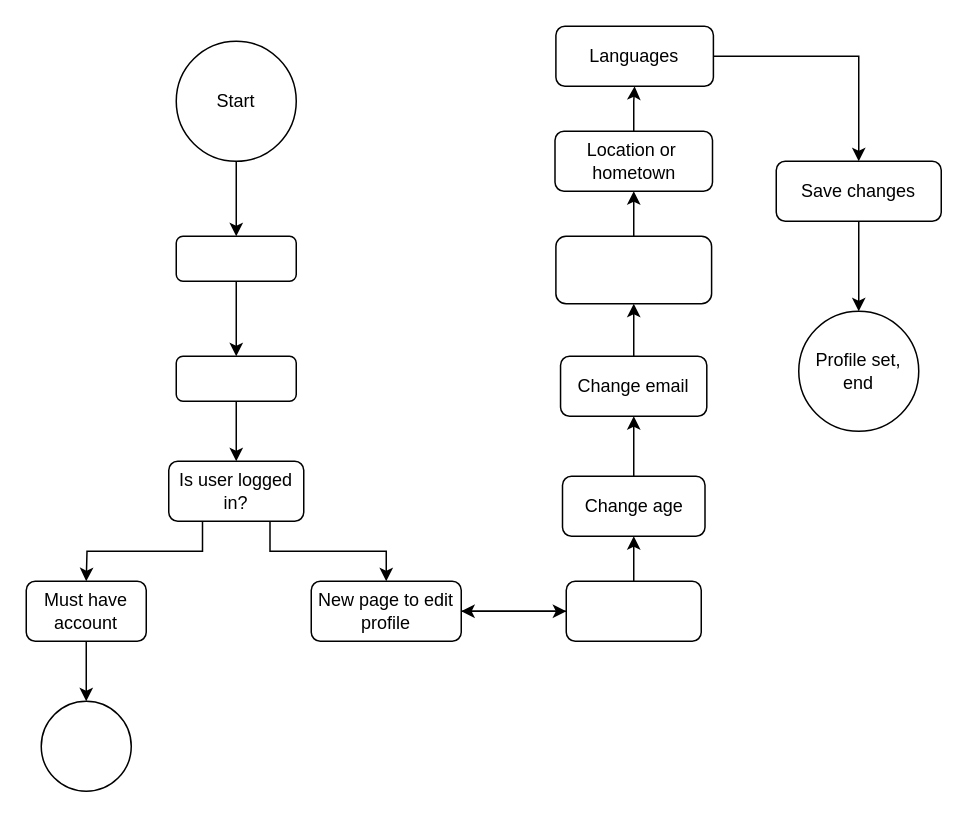
The diagram is 968 pixels wide and 818 high, and some of its shapes have lost their labels. The centre of each missing label's shape, as x and y in pixels:
Change name: the point at 633,610
Create account, end: the point at 85,745
Edit Profile: the point at 235,378
Settings: the point at 235,258
Type of clown: the point at 633,269
